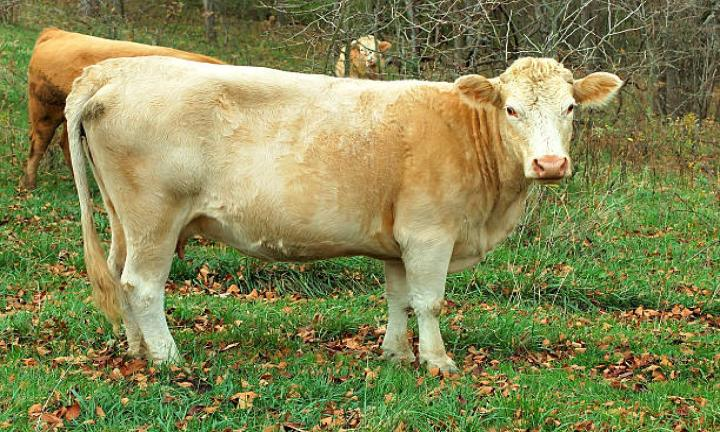Charolais: (66, 56, 621, 369)
